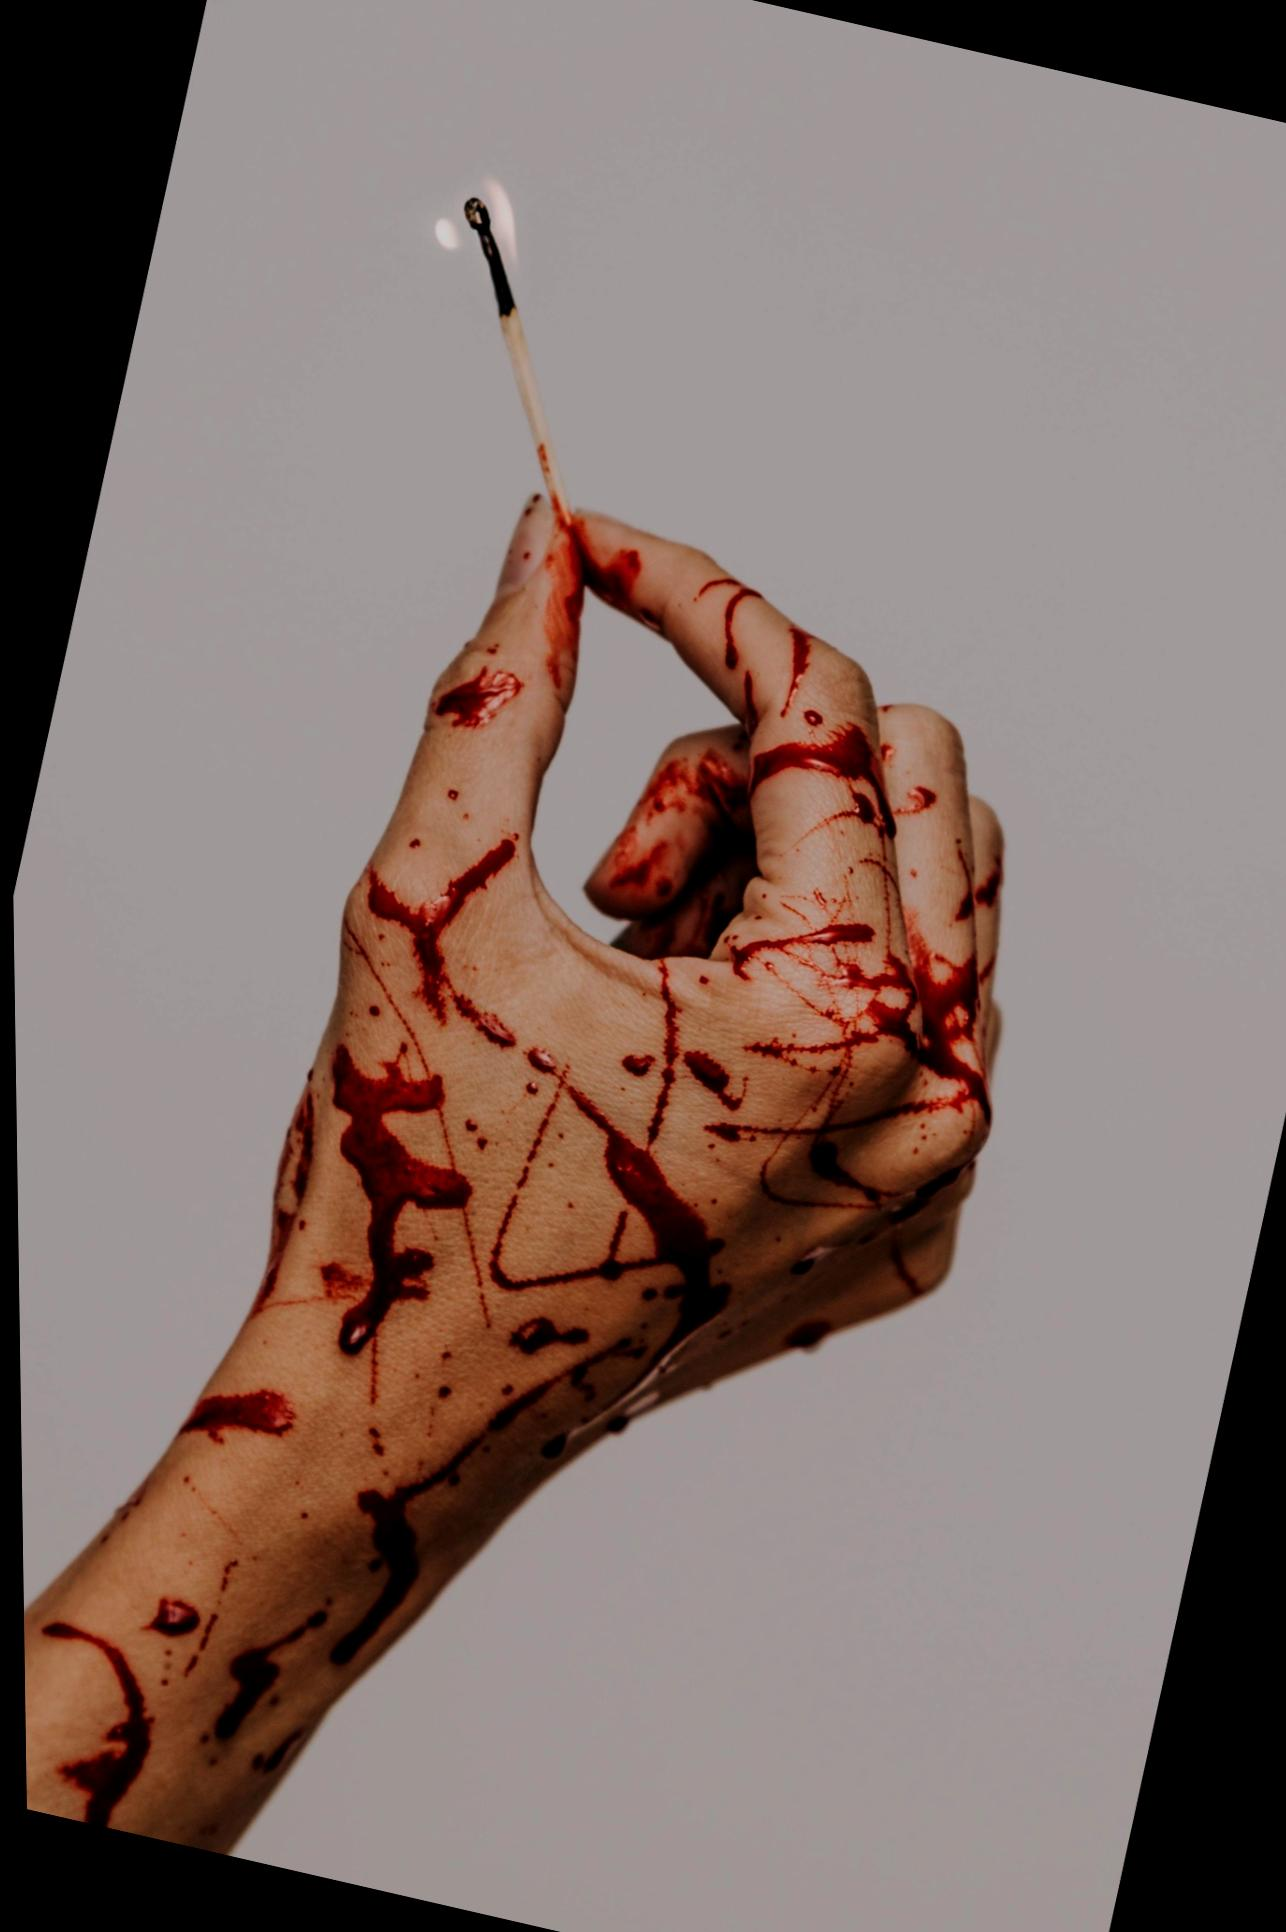Fire: (19, 501, 1002, 1854)
